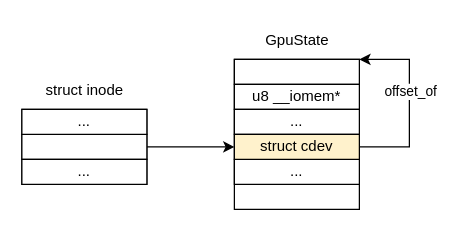
This 458x231 diagram has some shape labels left out. Each missing label, with the centre of its shape:
"struct cdev*" belongs at point (84, 146).
"struct pcie_dev*" belongs at point (296, 71).
